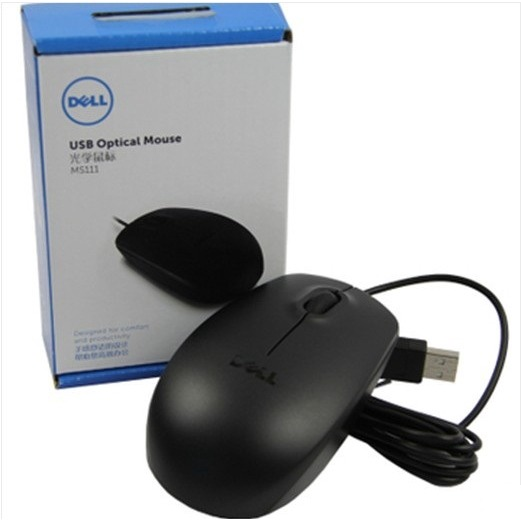mouse: (139, 272, 400, 520)
